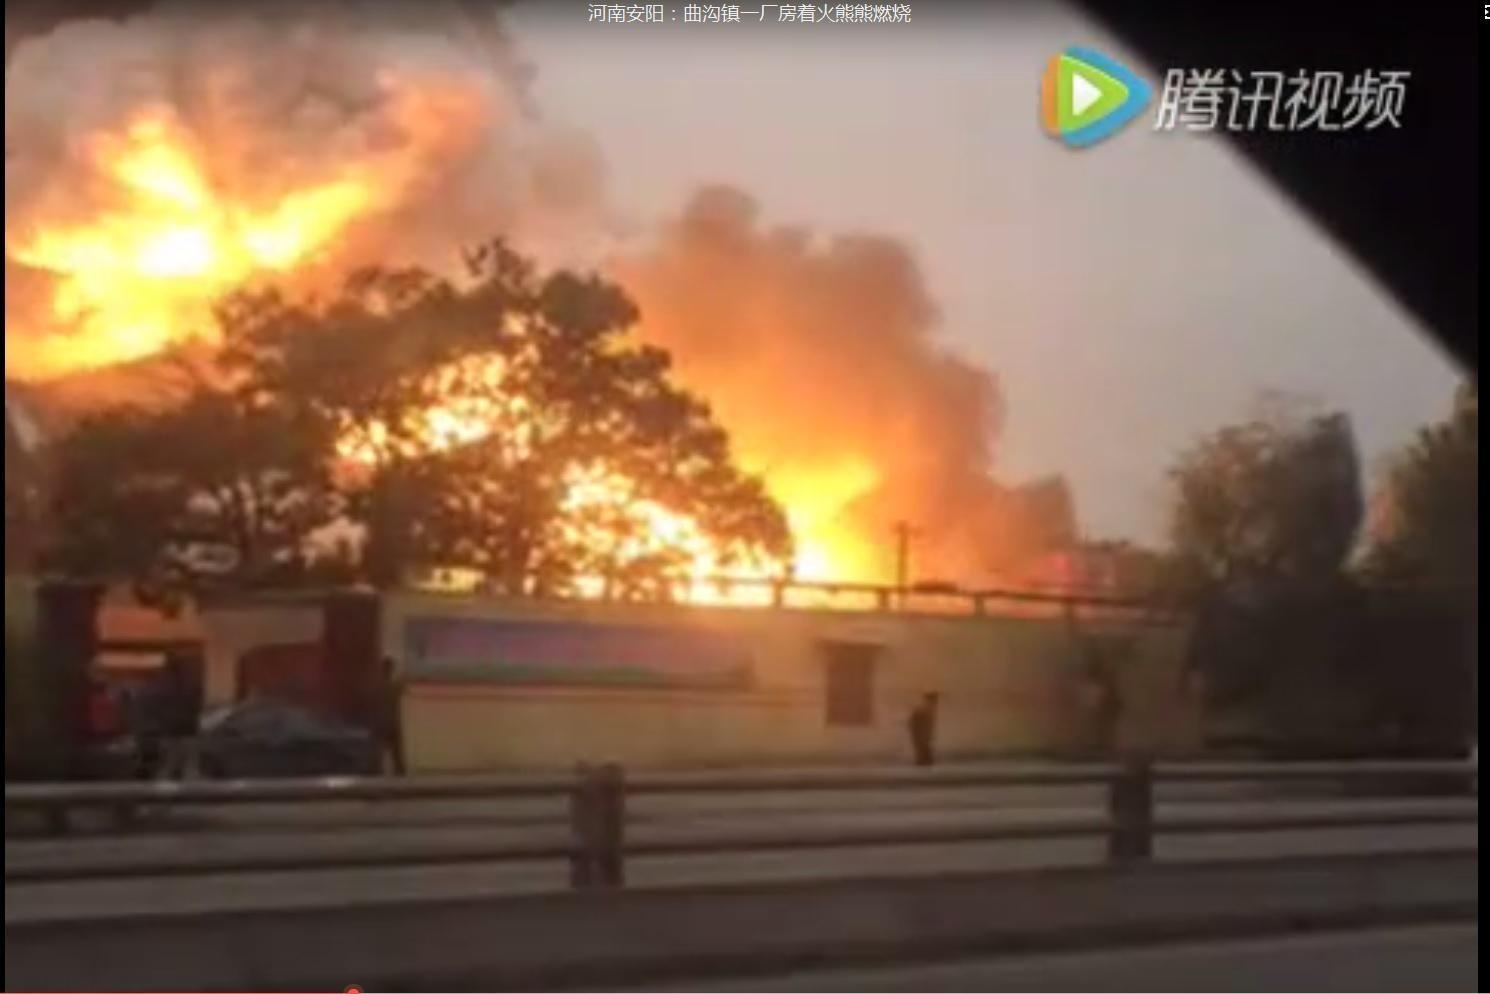fire: (336, 321, 888, 617), (6, 109, 381, 379)
